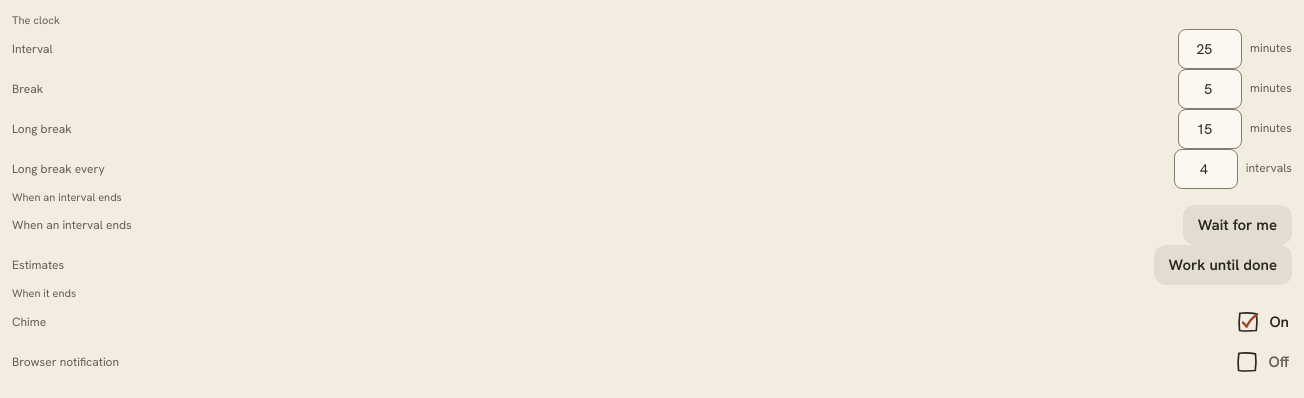
it: 2026-09-03 — Escape over a draft in a settings section › abandons a half-typed focus length WITHOUT closing the sheet
Replace the text in the number field labelled "Interval" with "45" at (1210, 48), box x1=1178 y1=28 x2=1242 y2=68
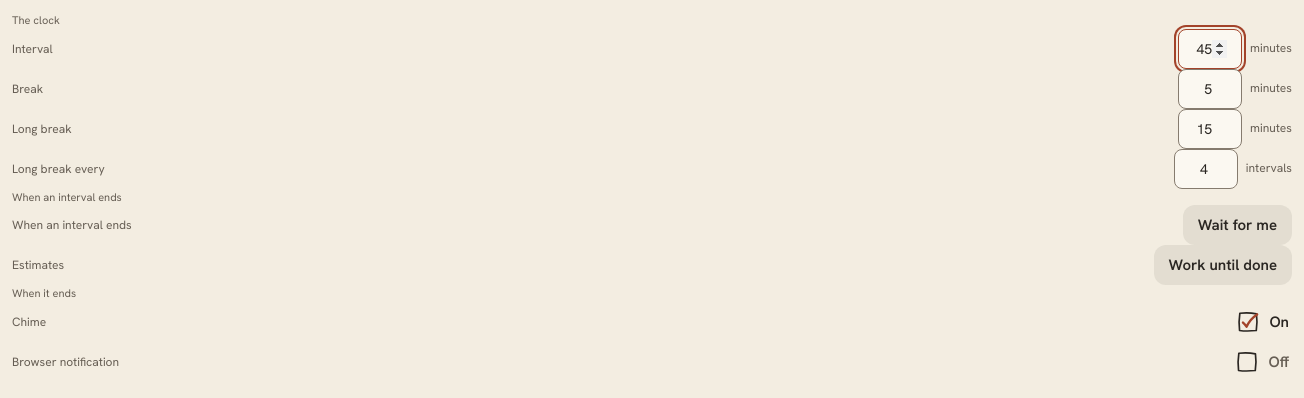
Press Escape
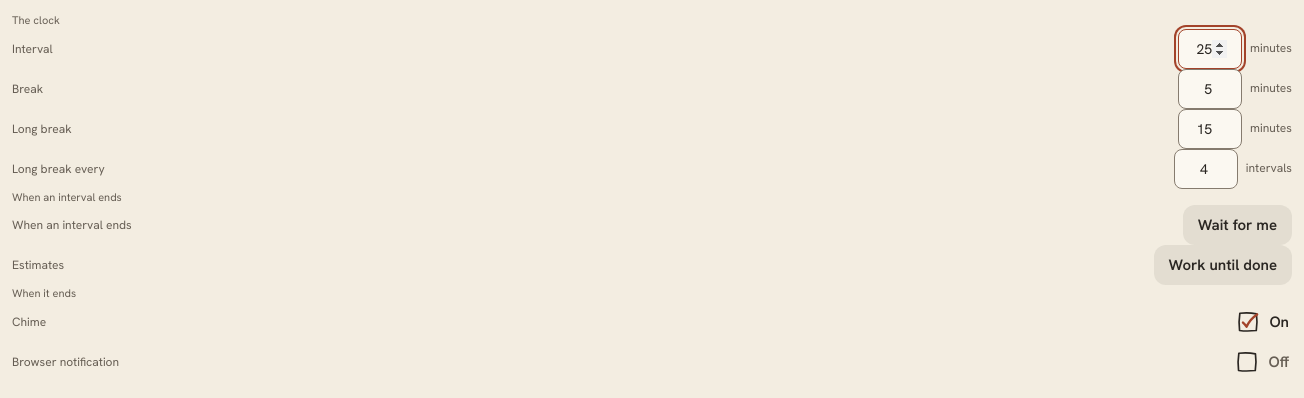
Result: the number field labelled "Interval" holds "25" at x1=1178 y1=28 x2=1242 y2=68
